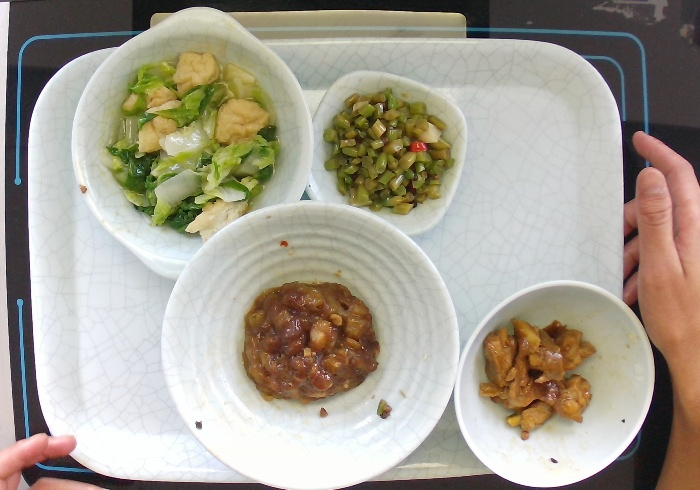JYsf-Fan_Wan: (452, 277, 657, 489)
JYsf-Shuang_Er_Wan: (69, 5, 316, 282)
JYsf-Si_Fang_Die: (304, 68, 469, 236)
JYsf-Xiao_Tang_Wan: (158, 198, 462, 490)
